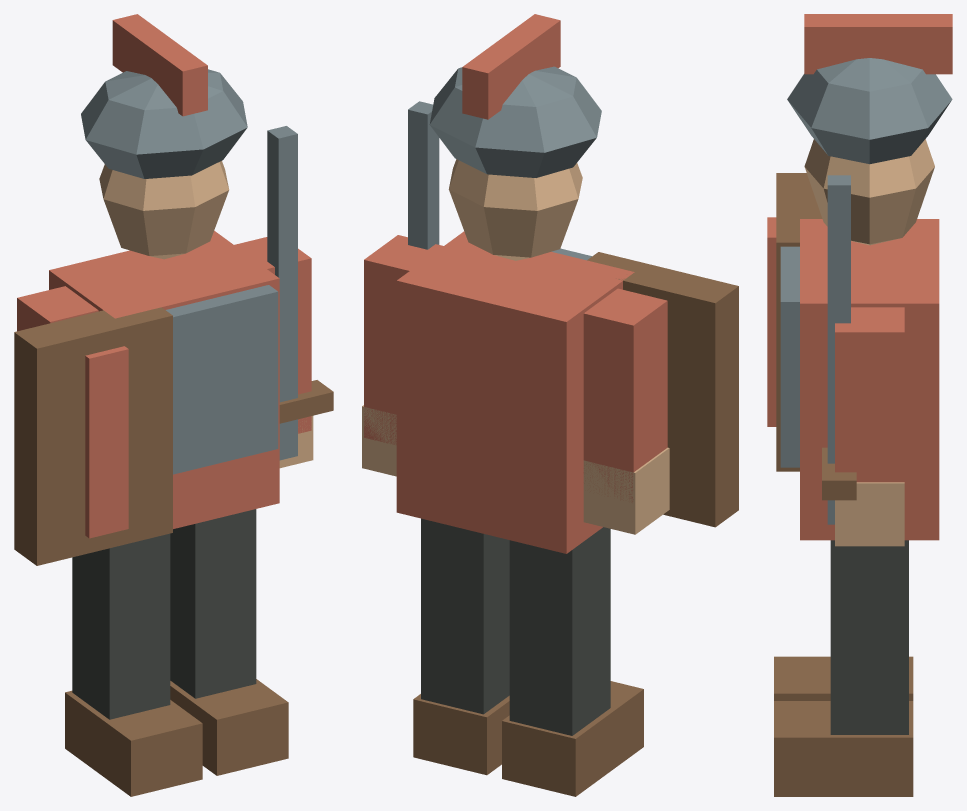
The model's file is infantry.glb.
3 renders of one model, left to right at view 1: azimuth 30°, elevation 25°; view 2: azimuth 150°, elevation 25°; view 3: azimuth 270°, elevation 25°, orthographic. The views are drawn at different scales.
Parts seen in each view (by area): view 1: shield, breastplate, tunic, leg, leg.001, helmet, boot, head, shield_mark, sword, boot.001, crest (+4 smaller); view 2: tunic, shield, leg, leg.001, arm, helmet, head, boot, arm.001, crest, boot.001, hand (+2 smaller); view 3: tunic, leg.001, helmet, arm.001, boot.001, crest, head, sword, breastplate, hand.001, shield, boot (+2 smaller).
Boxes of the visible parts, x1=… form: shield: x1=14, y1=307, x2=172, y2=565; breastplate: x1=166, y1=285, x2=278, y2=474; tunic: x1=49, y1=230, x2=279, y2=528; leg: x1=72, y1=533, x2=170, y2=719; leg.001: x1=170, y1=509, x2=256, y2=698; helmet: x1=81, y1=69, x2=247, y2=178; boot: x1=65, y1=690, x2=202, y2=796; head: x1=99, y1=161, x2=229, y2=259; shield_mark: x1=85, y1=346, x2=128, y2=538; sword: x1=267, y1=126, x2=297, y2=460; boot.001: x1=170, y1=679, x2=288, y2=775; crest: x1=112, y1=14, x2=207, y2=116; tunic: x1=396, y1=231, x2=634, y2=553; shield: x1=587, y1=252, x2=738, y2=527; leg: x1=509, y1=527, x2=610, y2=735; leg.001: x1=421, y1=518, x2=509, y2=714; arm: x1=583, y1=288, x2=667, y2=502; helmet: x1=429, y1=66, x2=601, y2=177; head: x1=448, y1=159, x2=582, y2=260; boot: x1=502, y1=681, x2=643, y2=796; arm.001: x1=364, y1=235, x2=443, y2=444; crest: x1=462, y1=14, x2=560, y2=119; boot.001: x1=413, y1=694, x2=509, y2=775; hand: x1=583, y1=447, x2=669, y2=534; tunic: x1=800, y1=219, x2=939, y2=540; leg.001: x1=830, y1=540, x2=908, y2=734; helmet: x1=787, y1=58, x2=952, y2=164; arm.001: x1=835, y1=307, x2=904, y2=482; boot.001: x1=774, y1=701, x2=913, y2=796; crest: x1=804, y1=14, x2=952, y2=74; head: x1=804, y1=139, x2=934, y2=245; sword: x1=827, y1=175, x2=850, y2=524; breastplate: x1=780, y1=246, x2=799, y2=467; hand.001: x1=835, y1=482, x2=904, y2=546; shield: x1=776, y1=173, x2=822, y2=471; boot: x1=774, y1=656, x2=913, y2=700.
Size of the model in its own units: 0.89 by 1.86 by 0.425.
